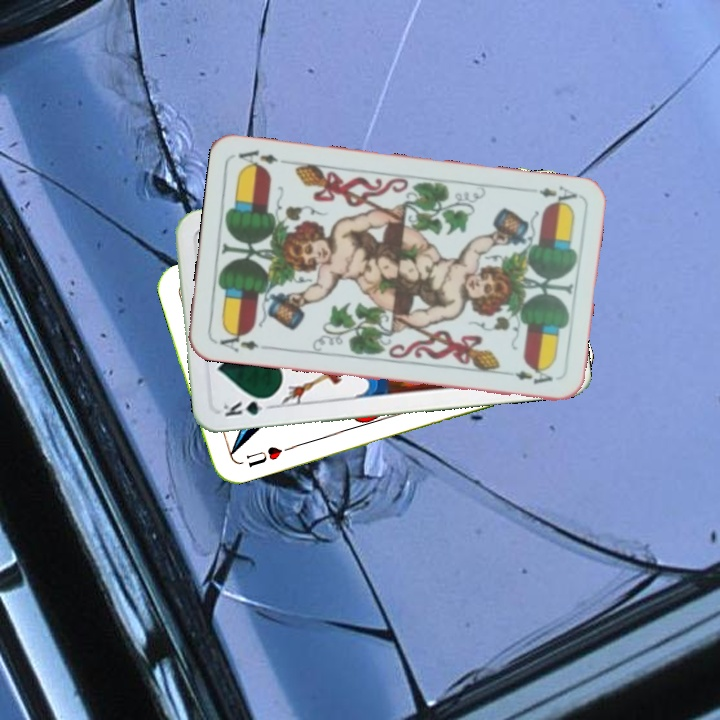EA: (211, 327, 262, 355), (535, 181, 579, 209)
GK: (219, 393, 276, 419)
HU: (242, 442, 285, 470)
